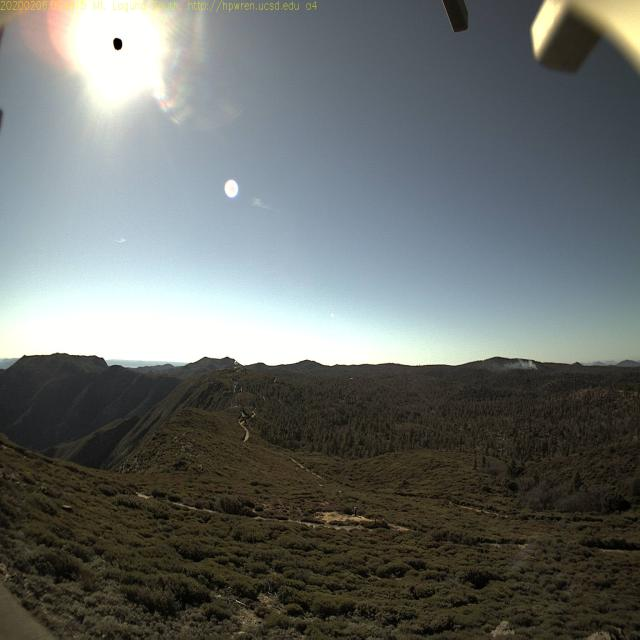smoke: (486, 362, 517, 372), (518, 358, 538, 372)
